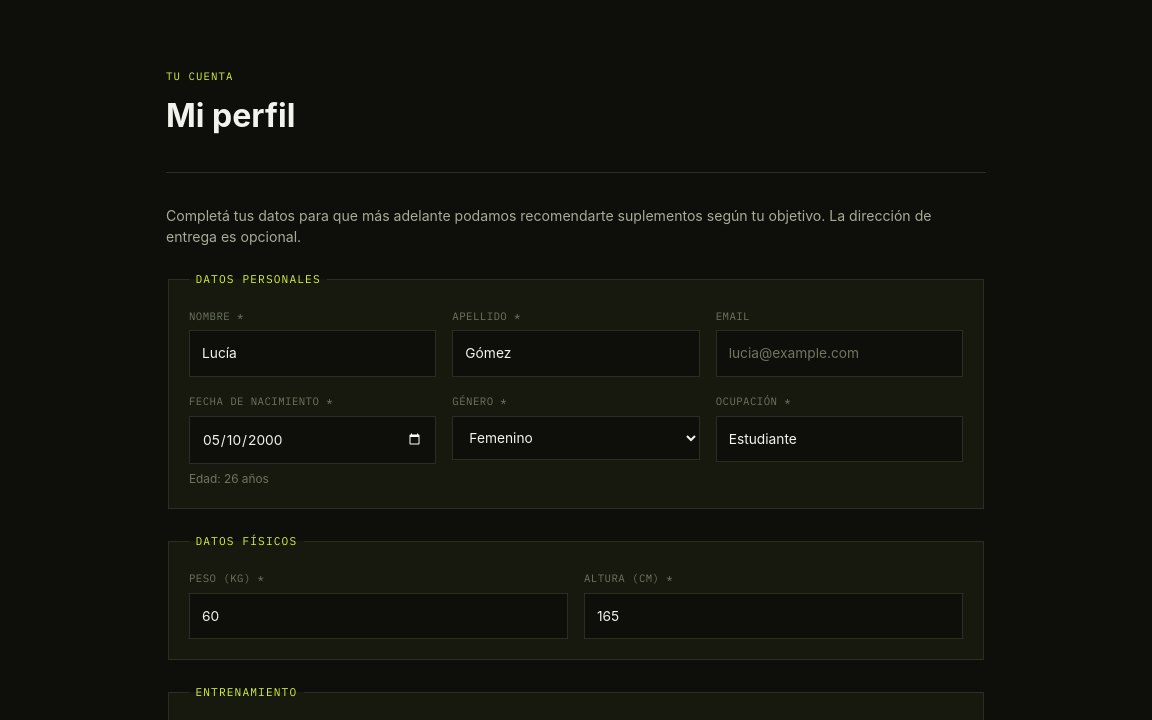
Scenario: ClientProfile › rejects a weight outside the allowed range (20 to 300 kg)
Replace the text in the number field labelled "Peso (kg) *" with "-5": (378, 616) [189,593,568,639]
(page scrolled)
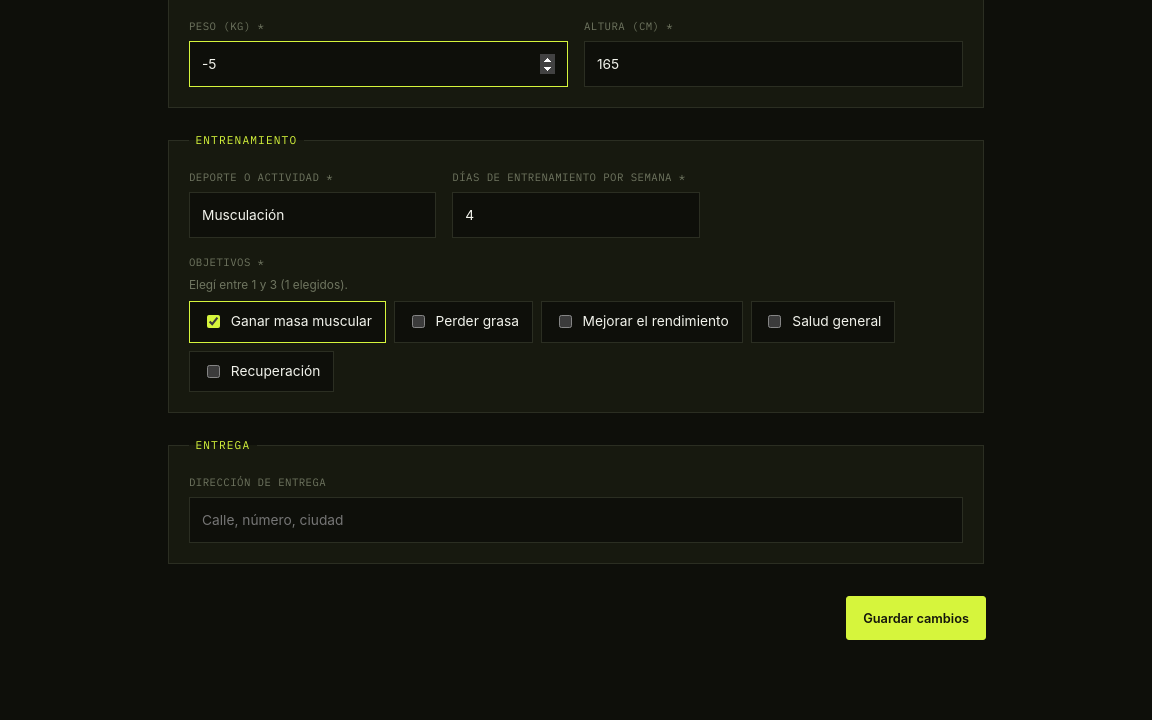
Click the button "Guardar cambios": (916, 618) [846,596,986,640]
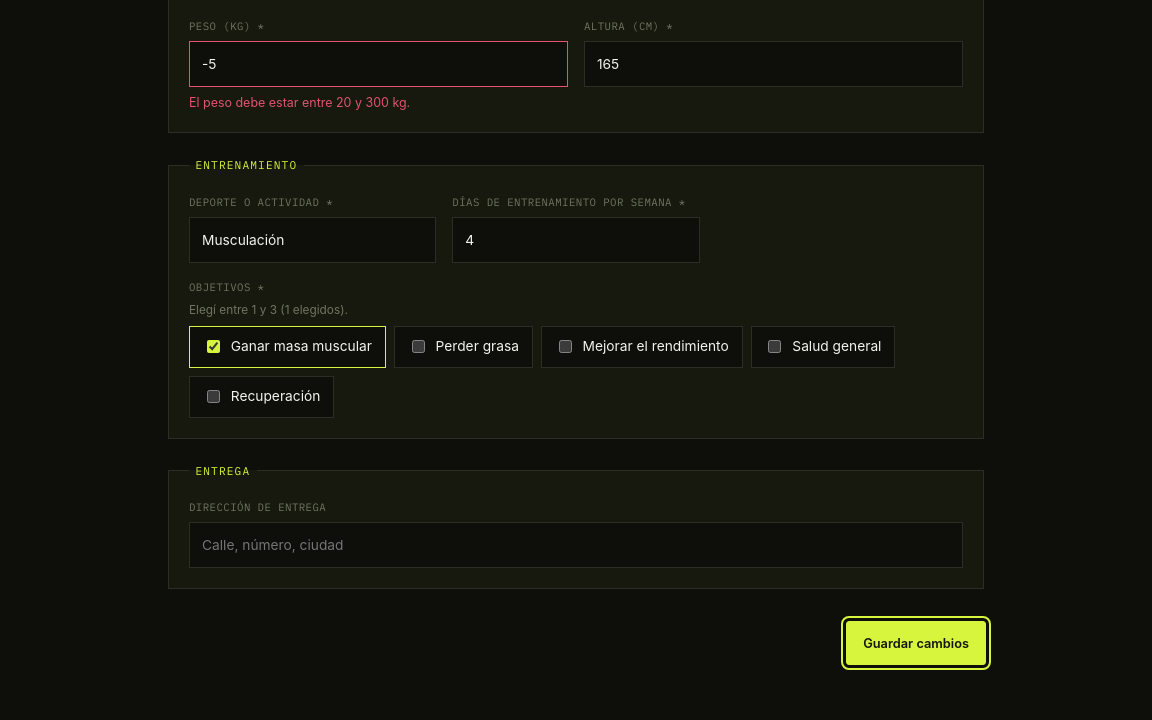
Check: the text "El peso debe estar entre 20 y 300 kg." is shown, box [189,95,410,110]
